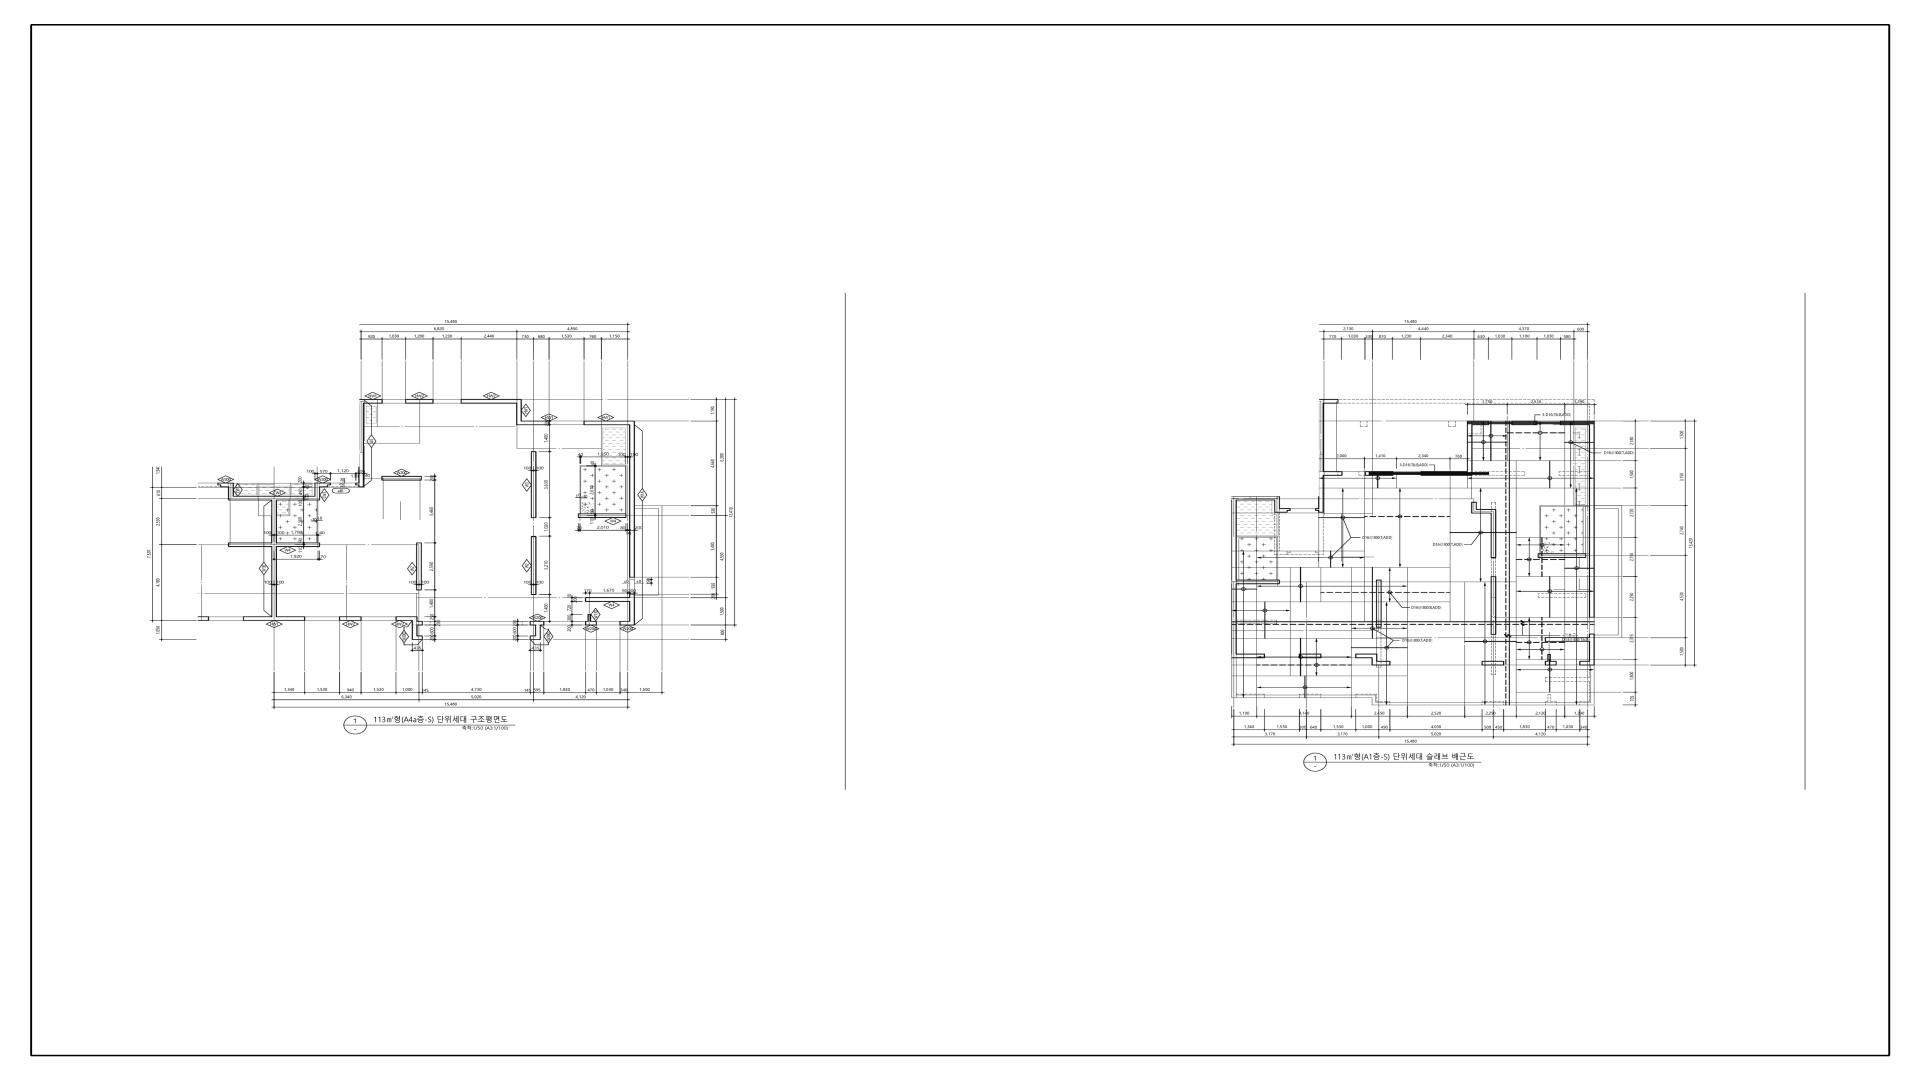wall: (1589, 425, 1595, 617), (1505, 421, 1510, 621), (629, 425, 635, 578), (1231, 500, 1237, 621), (1318, 399, 1324, 513), (1231, 621, 1382, 625), (1382, 621, 1496, 625), (1236, 695, 1376, 698), (359, 404, 364, 487), (271, 547, 277, 616), (531, 451, 537, 518), (1505, 625, 1510, 705), (1376, 702, 1505, 705), (531, 536, 537, 595), (1510, 621, 1595, 625), (461, 399, 522, 404), (416, 543, 422, 590), (1467, 425, 1473, 472), (271, 500, 277, 543), (1421, 471, 1472, 476), (1510, 702, 1594, 705), (585, 597, 635, 602), (1545, 637, 1595, 642), (1376, 580, 1382, 621), (578, 513, 626, 518), (1538, 553, 1586, 558), (1491, 576, 1496, 621), (1491, 513, 1496, 558), (1231, 496, 1274, 501), (381, 476, 422, 481), (584, 421, 635, 425), (1231, 658, 1236, 698), (1231, 625, 1237, 658), (277, 543, 320, 547), (228, 543, 271, 547), (1237, 580, 1280, 584), (234, 496, 272, 500), (277, 496, 315, 500), (405, 399, 434, 404), (243, 616, 272, 621), (277, 616, 305, 621), (1560, 421, 1595, 425), (516, 404, 522, 425), (359, 399, 383, 404), (1369, 471, 1393, 476), (339, 616, 362, 621), (629, 602, 635, 621), (1589, 642, 1595, 661), (522, 421, 550, 425), (1237, 654, 1265, 658), (396, 616, 418, 621), (1482, 661, 1504, 666), (1591, 666, 1594, 702), (1511, 421, 1538, 425), (228, 483, 234, 500), (1274, 496, 1280, 513), (1471, 509, 1496, 513), (1324, 471, 1343, 476), (1372, 661, 1390, 666), (1299, 654, 1321, 658), (1467, 421, 1489, 425), (315, 483, 320, 500), (1393, 472, 1421, 475), (1579, 661, 1595, 666), (620, 621, 635, 626), (530, 621, 544, 626), (1324, 399, 1338, 404), (1355, 654, 1372, 658), (535, 625, 541, 636), (412, 626, 418, 636), (1545, 661, 1557, 666), (1496, 621, 1510, 625), (412, 621, 423, 626), (1280, 508, 1291, 513), (1472, 472, 1489, 475), (1491, 625, 1496, 635), (585, 621, 597, 625), (217, 483, 228, 487), (320, 483, 331, 487), (530, 636, 541, 640), (412, 636, 423, 640), (198, 617, 209, 621), (1471, 502, 1477, 509), (1372, 654, 1377, 661), (271, 616, 277, 621), (1372, 698, 1376, 705), (1547, 654, 1551, 661), (271, 543, 277, 547), (588, 614, 591, 621), (272, 496, 277, 500), (1365, 471, 1369, 476), (629, 594, 635, 597), (1589, 634, 1595, 637), (1376, 625, 1382, 628), (1315, 508, 1318, 511), (355, 483, 359, 485)
